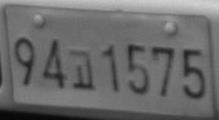1: (98, 43, 124, 92)
4: (42, 38, 69, 88)
5: (126, 43, 150, 94), (182, 48, 206, 98)
7: (151, 46, 175, 96)
9: (13, 36, 35, 85)
고: (69, 48, 95, 89)
